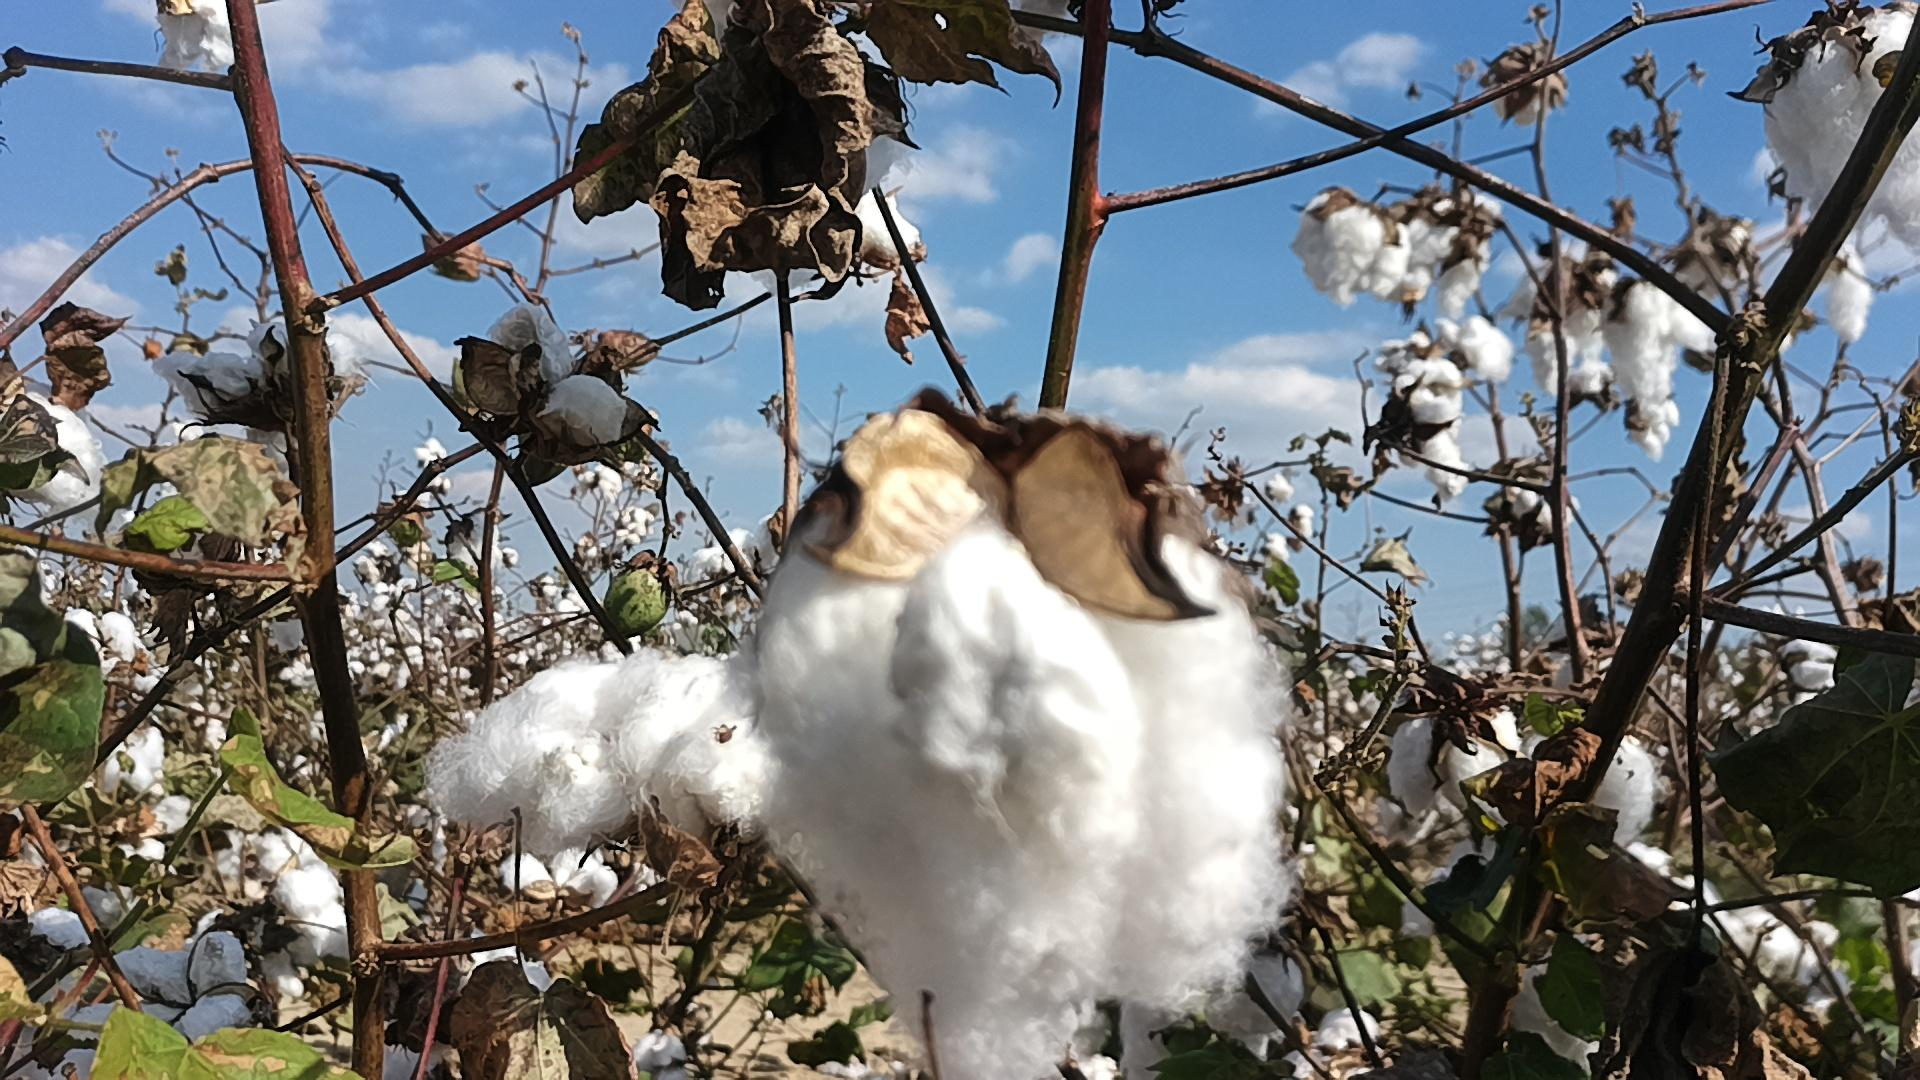cotton_ready: (724, 476, 1298, 1080), (429, 653, 775, 851), (1758, 3, 1920, 268), (748, 71, 922, 298), (1072, 938, 1308, 1080), (62, 928, 256, 1063), (476, 299, 633, 463), (152, 315, 365, 423), (190, 865, 352, 1001), (1523, 720, 1665, 857), (1382, 695, 1526, 820), (1615, 276, 1716, 454), (1286, 187, 1415, 306), (0, 377, 105, 510), (1403, 187, 1501, 326), (1515, 256, 1619, 363), (152, 0, 237, 80)
